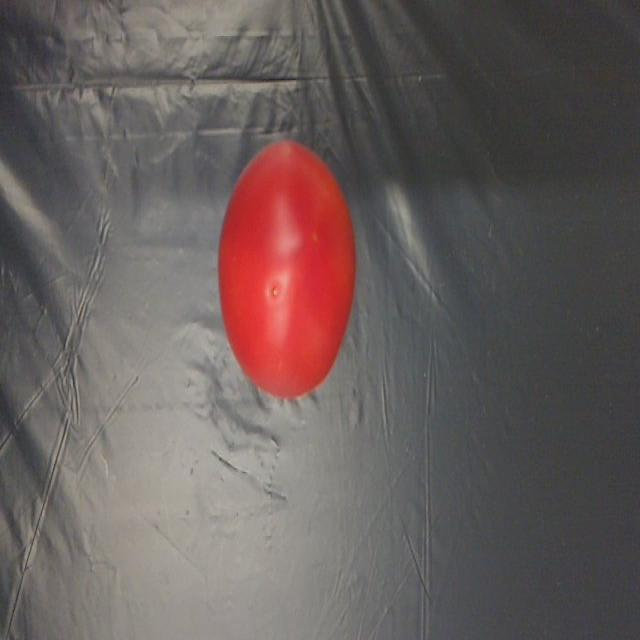kirmizi: (210, 141, 367, 427)
